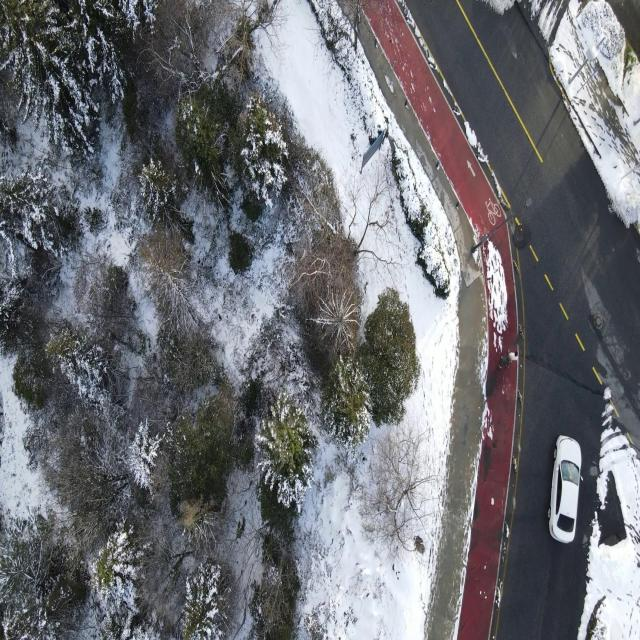p3rson: (498, 355, 511, 369), (507, 350, 518, 362)
